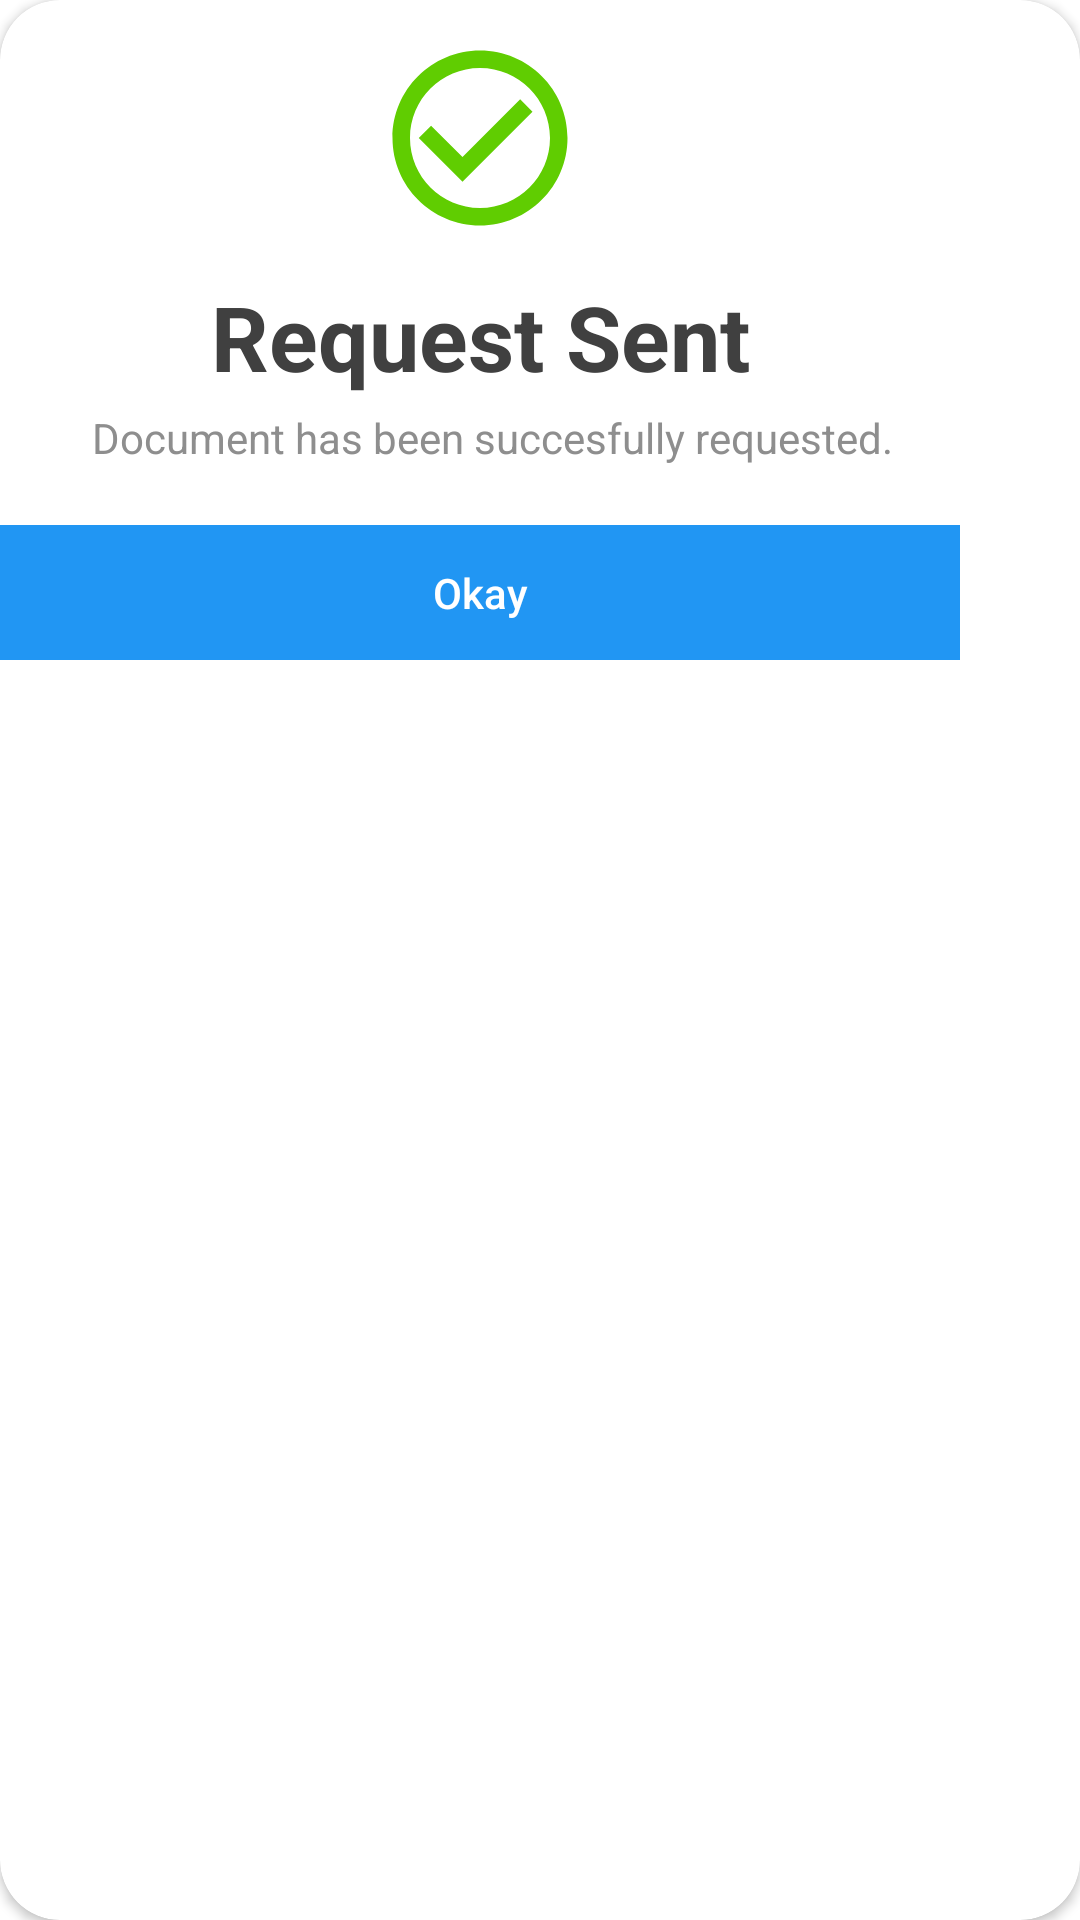

Icon click points for this 1080×1920 phone screenshot, format (x,y):
check circle: (480,138)
